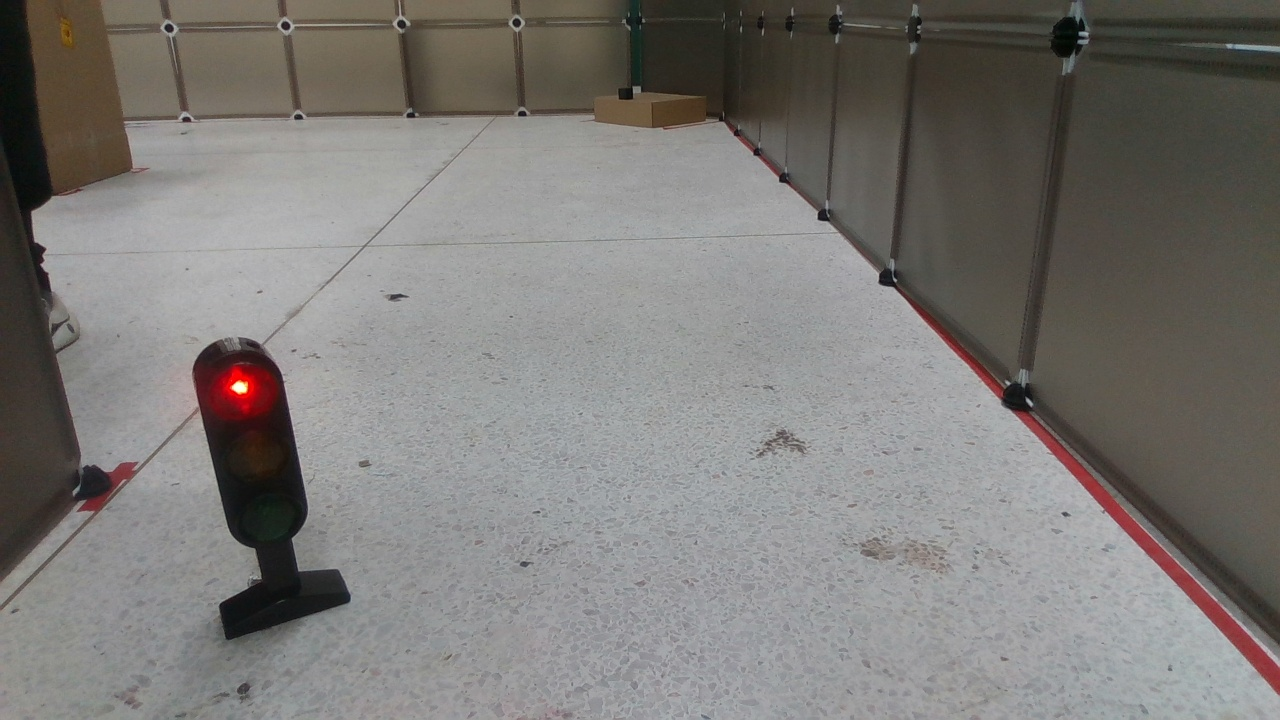Red traffic light: (187, 337, 349, 639)
